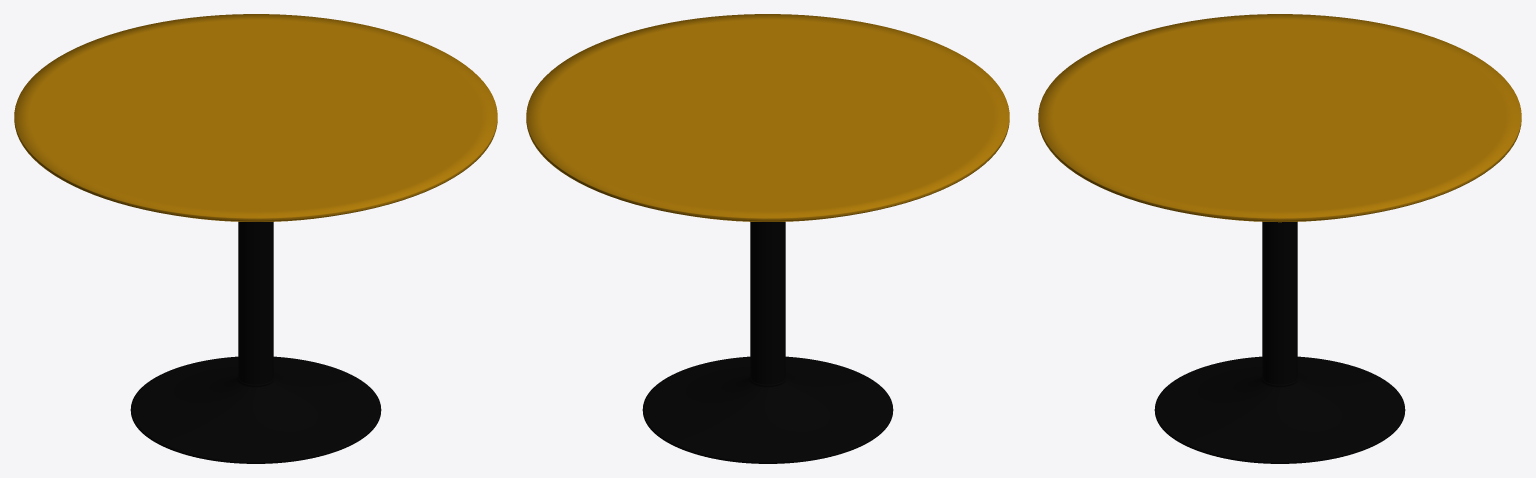
The model's file is tableFixed14.glb.
The picture shows the model from 3 angles, left to right: view 1: azimuth 30°, elevation 25°; view 2: azimuth 150°, elevation 25°; view 3: azimuth 270°, elevation 25°; orthographic projection.
Parts seen in each view (by area): view 1: top.3, leg.4; view 2: top.3, leg.4; view 3: top.3, leg.4.
Part boxes in pixels (box(x1,y1,x2,y2)): top.3: box(14, 14, 497, 221); leg.4: box(130, 222, 381, 463); top.3: box(526, 14, 1009, 221); leg.4: box(642, 222, 893, 463); top.3: box(1038, 14, 1521, 222); leg.4: box(1154, 222, 1405, 463).
Bounding box in the file's own units: 36942 × 24901 × 36942.
